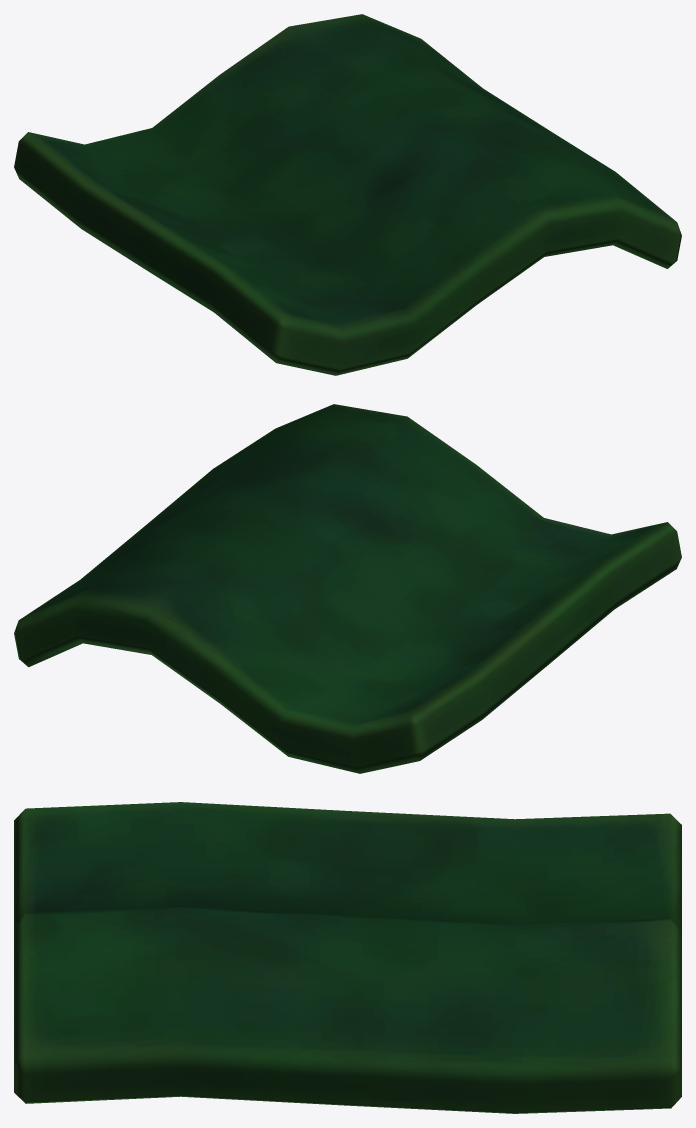
File: t_ingredients_seaweed_01_d.fbx
3 views of the same model, one above another, from view 1: azimuth 30°, elevation 25°; view 2: azimuth 150°, elevation 25°; view 3: azimuth 270°, elevation 25° (orthographic). The views are drawn at different scales.
Visible parts, largest first — view 1: m_ingredients_seaweed_01; view 2: m_ingredients_seaweed_01; view 3: m_ingredients_seaweed_01.
Part boxes in pixels (x1,y1,x2,y2): m_ingredients_seaweed_01: [14, 14, 681, 375]; m_ingredients_seaweed_01: [14, 404, 681, 773]; m_ingredients_seaweed_01: [14, 802, 681, 1113].
Size of the model in its own units: 64.31 by 19.21 by 71.8.
Materials: 1 (1 with a texture image).
